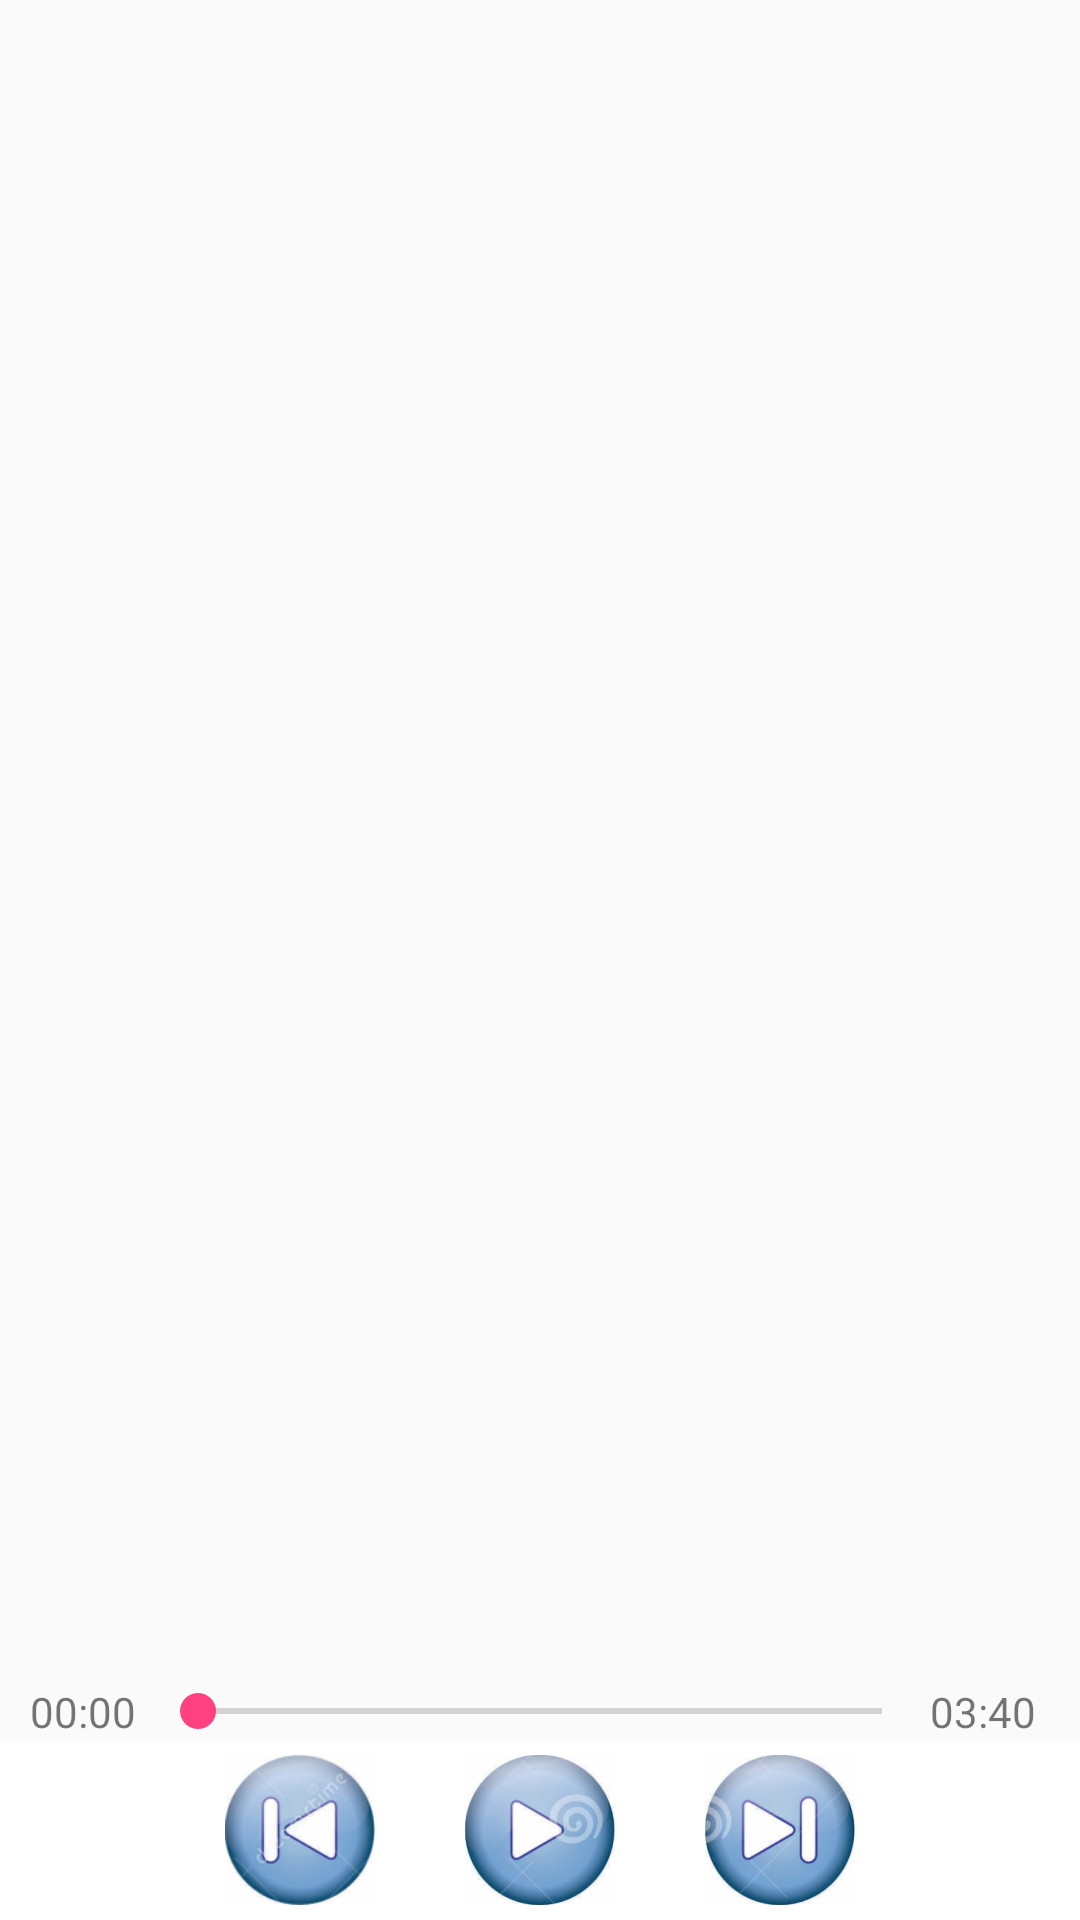

Screen size 1080px x 1920px. Icon name, then its box in pixels as [x1,y1,x2,y2]:
music next: [705,1755,855,1905]
music play pre: [225,1755,375,1905]
